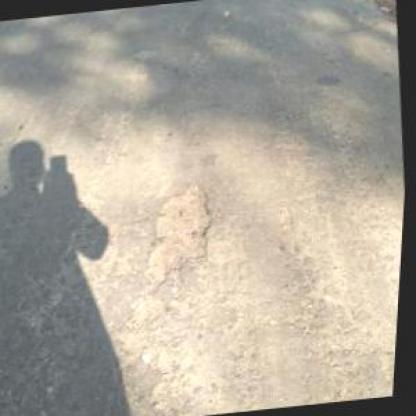pothole: (134, 179, 224, 286)
